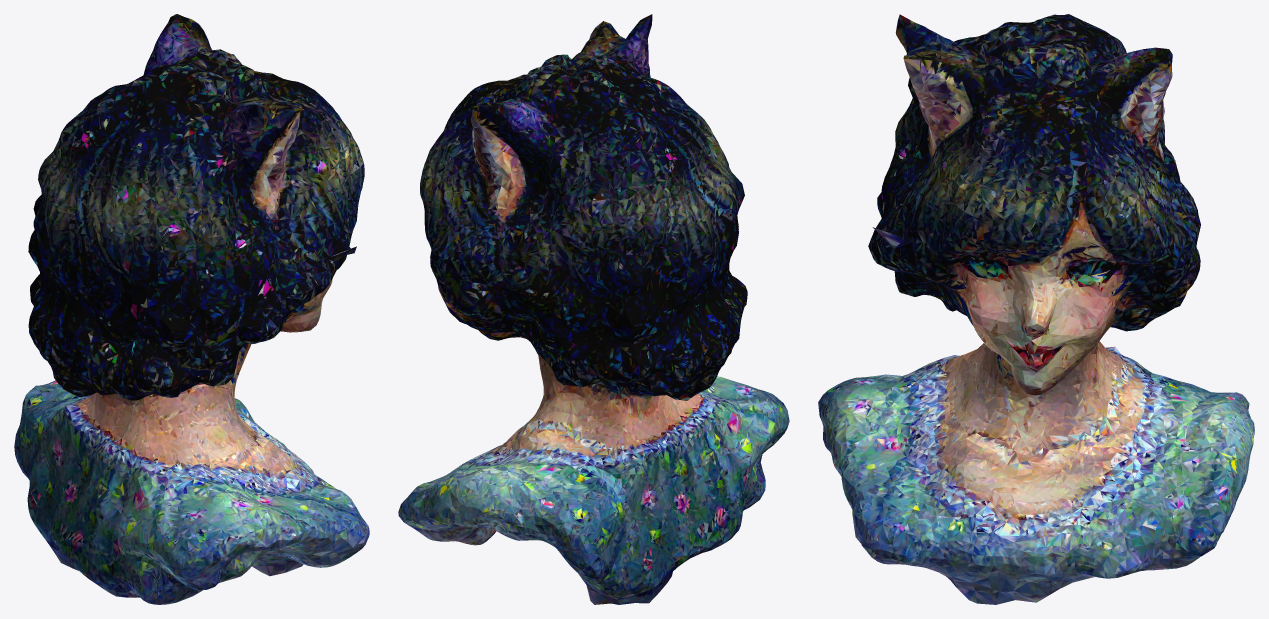
The model's file is girl_fox-normal.glb.
The picture shows the model from 3 angles, left to right: view 1: azimuth 30°, elevation 25°; view 2: azimuth 150°, elevation 25°; view 3: azimuth 270°, elevation 25°; orthographic projection. The views are drawn at different scales.
Parts seen in each view (by area): view 1: extracted_mesh; view 2: extracted_mesh; view 3: extracted_mesh.
Boxes of the visible parts, <box> form: extracted_mesh: <box>14,14,369,604</box>; extracted_mesh: <box>398,14,789,604</box>; extracted_mesh: <box>818,14,1254,604</box>.
Size of the model in its own units: 0.684 by 1.12 by 0.8061.
Materials: 1 (1 with a texture image).
